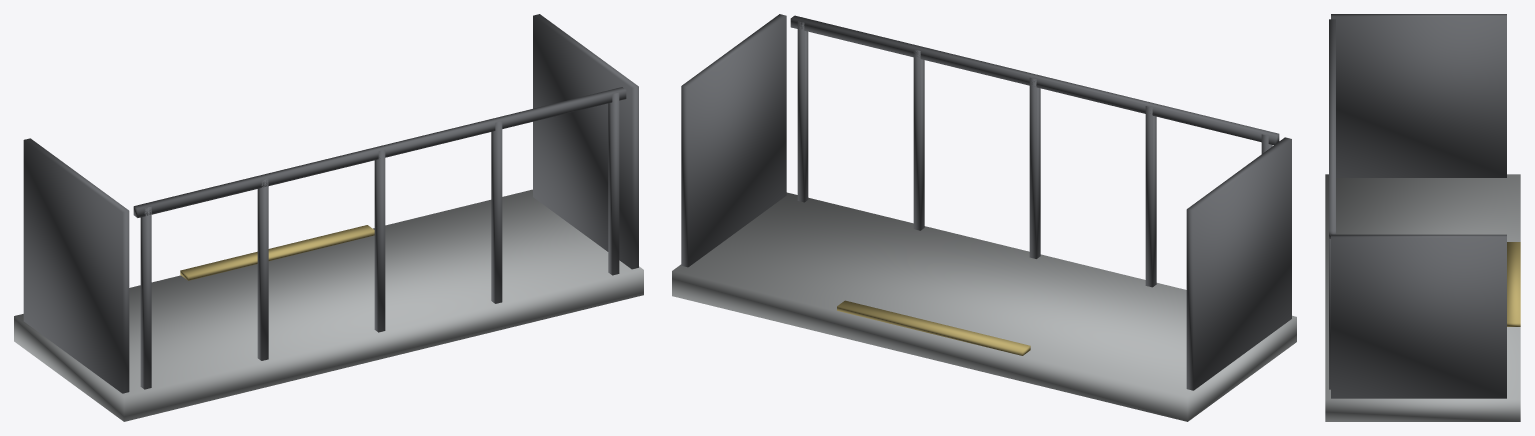
Rendered from industrial_w300_d110_door-or-window.glb.
The picture shows the model from 3 angles, left to right: view 1: azimuth 30°, elevation 25°; view 2: azimuth 150°, elevation 25°; view 3: azimuth 270°, elevation 25°; orthographic projection. The views are drawn at different scales.
Visible parts, largest first — view 1: world; view 2: world; view 3: world.
Boxes of the visible parts, left/top/right/bottom form: world: left=14, top=14, right=643, bottom=421; world: left=672, top=14, right=1296, bottom=421; world: left=1325, top=14, right=1520, bottom=421.
Bounding box in the file's own units: 3 × 1.14 × 1.1.
